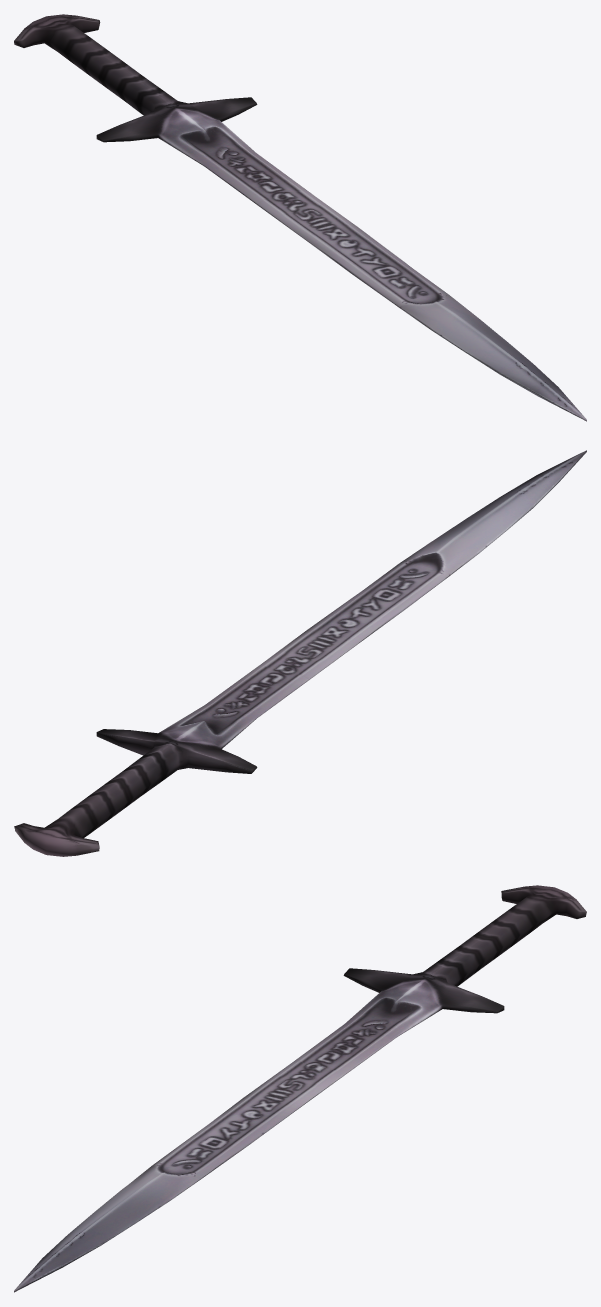
Rendered from sword.FBX.
3 renders of one model, top to bottom at view 1: azimuth 30°, elevation 25°; view 2: azimuth 150°, elevation 25°; view 3: azimuth 330°, elevation 25°, orthographic.
Parts seen in each view (by area): view 1: sword; view 2: sword; view 3: sword.
Part boxes in pixels (x1=…): sword: x1=14, y1=14, x2=586, y2=421; sword: x1=14, y1=450, x2=586, y2=856; sword: x1=14, y1=885, x2=586, y2=1292.
Size of the model in its own units: 17.33 by 105 by 2.78.
1 material, 1 textured.
